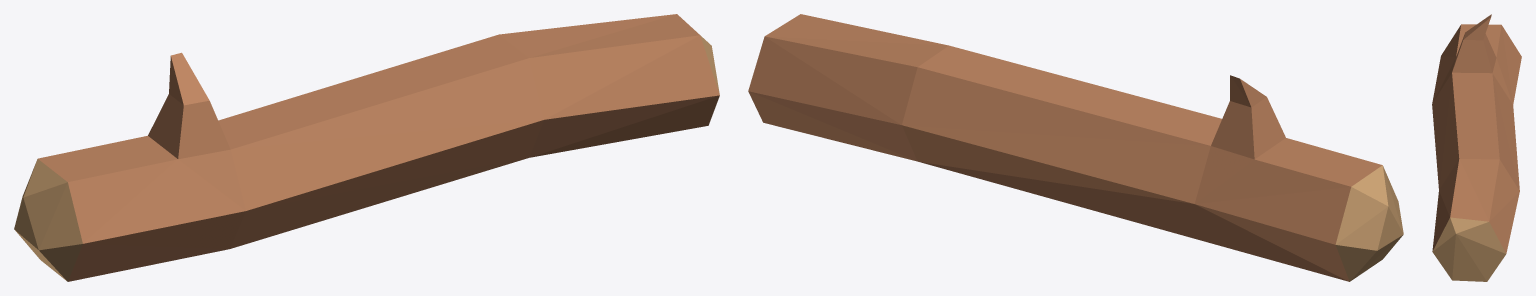
Rendered from Branch.fbx.
3 renders of one model, left to right at view 1: azimuth 30°, elevation 25°; view 2: azimuth 150°, elevation 25°; view 3: azimuth 270°, elevation 25°, orthographic. The views are drawn at different scales.
Visible parts, largest first — view 1: Branch; view 2: Branch; view 3: Branch.
Part boxes in pixels (left/top/right/bottom): Branch: left=14, top=14, right=719, bottom=281; Branch: left=748, top=14, right=1403, bottom=281; Branch: left=1432, top=14, right=1521, bottom=281.
Bounding box in the file's own units: 1.3 × 0.3377 × 0.2395.
